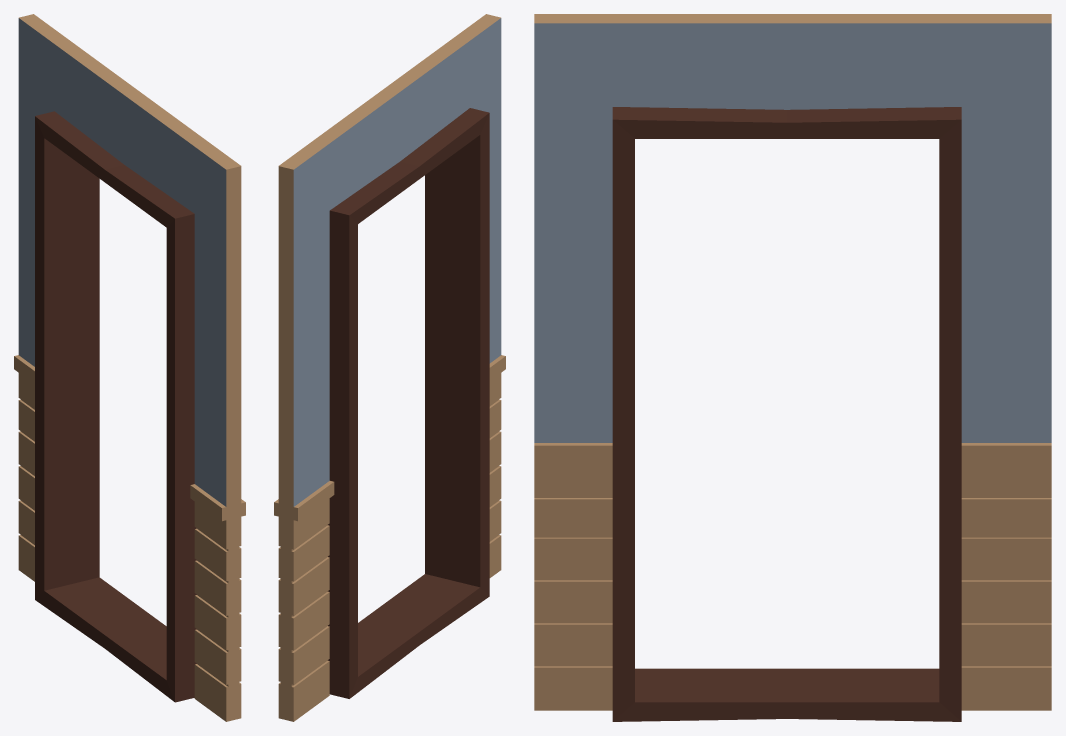
File: int-door-a.glb
3 views of the same model, side by side, from view 1: azimuth 30°, elevation 25°; view 2: azimuth 150°, elevation 25°; view 3: azimuth 270°, elevation 25° (orthographic). The views are drawn at different scales.
Visible parts, largest first — view 1: Int. Door A (×3); view 2: Int. Door A (×3); view 3: Int. Door A (×3).
Part boxes in pixels (x1,y1,x2,y2): Int. Door A (×3): [14, 14, 245, 721]; Int. Door A (×3): [274, 14, 505, 721]; Int. Door A (×3): [534, 14, 1051, 721].
Size of the model in its own units: 0.2339 by 2.2 by 1.5.
